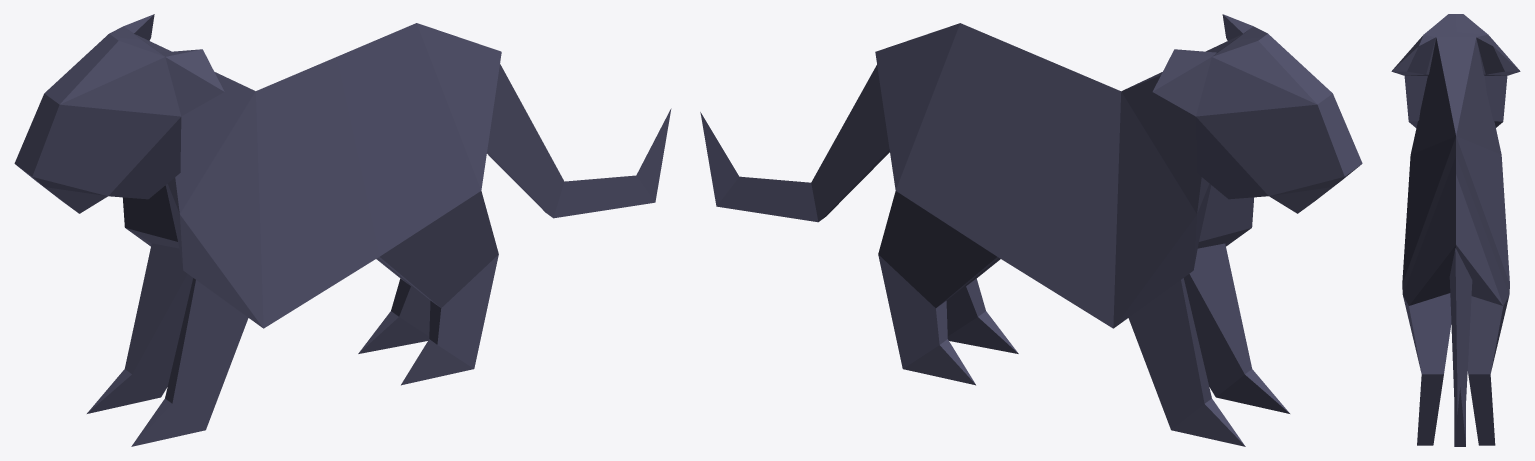
File: Tiger.fbx
3 views of the same model, side by side, from view 1: azimuth 30°, elevation 25°; view 2: azimuth 150°, elevation 25°; view 3: azimuth 270°, elevation 25° (orthographic). The views are drawn at different scales.
Visible parts, largest first — view 1: Tiger; view 2: Tiger; view 3: Tiger.
Boxes of the visible parts, x1=… form: Tiger: x1=14, y1=14, x2=671, y2=446; Tiger: x1=700, y1=14, x2=1362, y2=446; Tiger: x1=1391, y1=14, x2=1520, y2=446.
Bounding box in the file's own units: 241 × 141 × 53.82.
